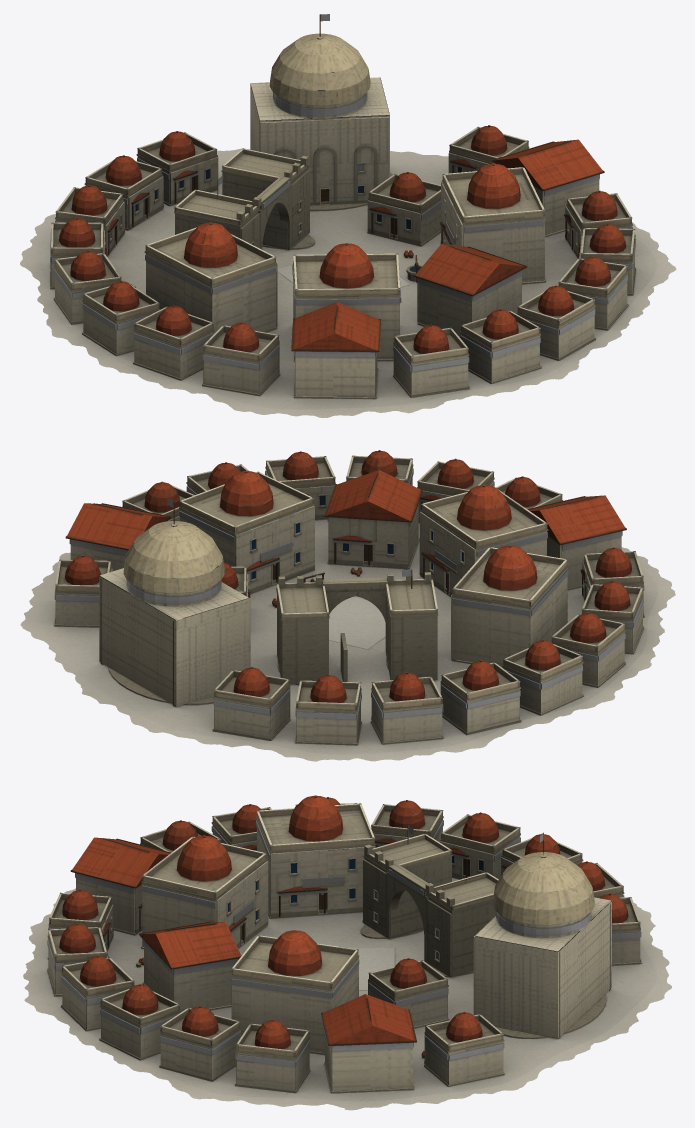
File: gunpowder-town-big-b-israelite.glb
The picture shows the model from 3 angles, top to bottom: view 1: azimuth 30°, elevation 25°; view 2: azimuth 150°, elevation 25°; view 3: azimuth 270°, elevation 25°; orthographic projection.
Visible parts, largest first — view 1: LOD0; view 2: LOD0; view 3: LOD0.
Part boxes in pixels (box(x1,y1,x2,y2)): LOD0: box(20, 14, 676, 417); LOD0: box(20, 450, 675, 761); LOD0: box(23, 795, 671, 1110).
Size of what is drawn, in the model's own units: 7.91 by 2.32 by 7.95.
3 materials, 3 textured.
